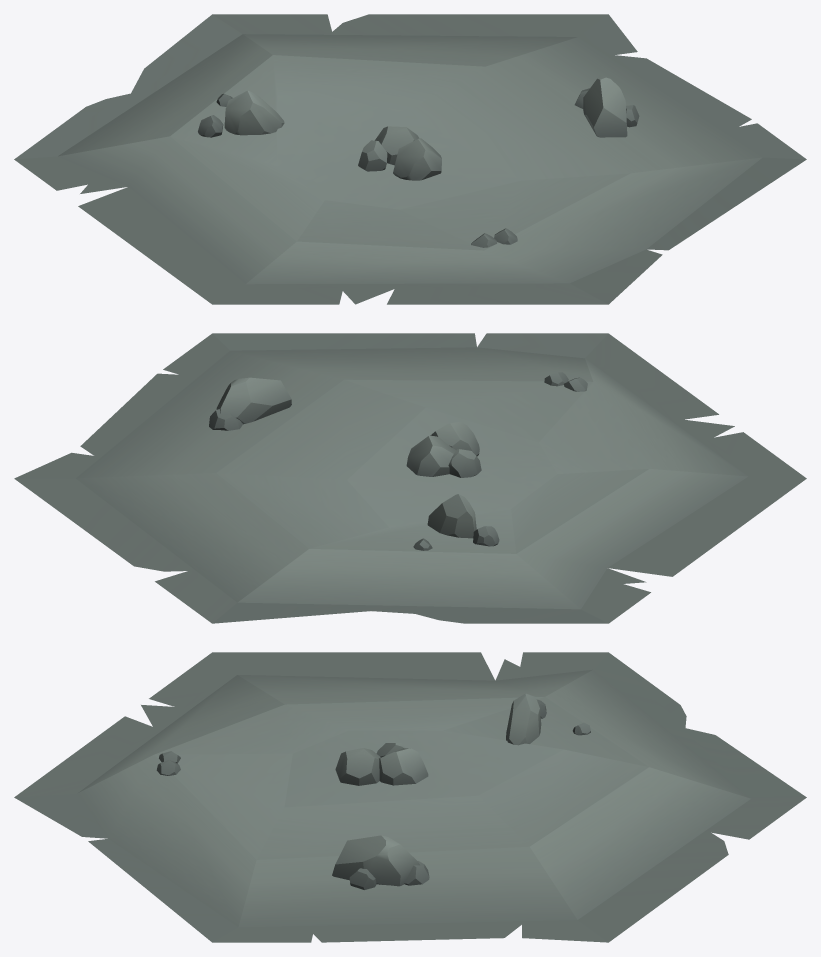
Rendered from rock.glb.
The picture shows the model from 3 angles, top to bottom: view 1: azimuth 30°, elevation 25°; view 2: azimuth 150°, elevation 25°; view 3: azimuth 270°, elevation 25°; orthographic projection.
Visible parts, largest first — view 1: plane; view 2: plane; view 3: plane.
Boxes of the visible parts, x1,y1,x2,y2 form: plane: (14,14,806,304); plane: (14,333,806,623); plane: (14,652,806,942).
Size of the model in its own units: 1.73 by 0.173 by 2.
Materials: 1 (1 with a texture image).
